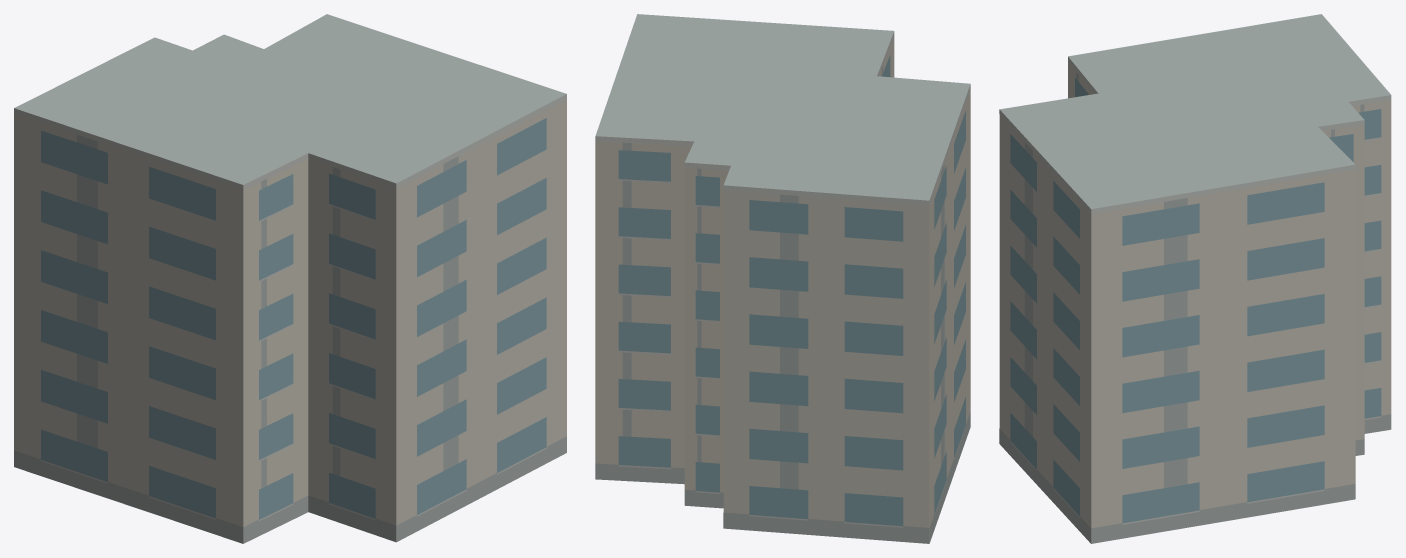
File: survey-upis-32853637.glb
3 renders of one model, left to right at view 1: azimuth 30°, elevation 25°; view 2: azimuth 150°, elevation 25°; view 3: azimuth 270°, elevation 25°, orthographic. The views are drawn at different scales.
Visible parts, largest first — view 1: survey-upis-32853637.tmp; view 2: survey-upis-32853637.tmp; view 3: survey-upis-32853637.tmp.
Boxes of the visible parts, x1,y1,x2,y2 form: survey-upis-32853637.tmp: [14, 14, 566, 543]; survey-upis-32853637.tmp: [595, 14, 970, 543]; survey-upis-32853637.tmp: [999, 14, 1391, 543].
Size of the model in its own units: 20.78 by 16.6 by 17.63.
